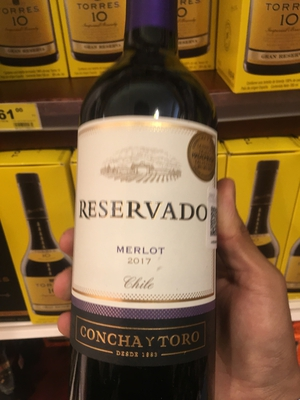reservado merlot: (70, 16, 222, 400)
